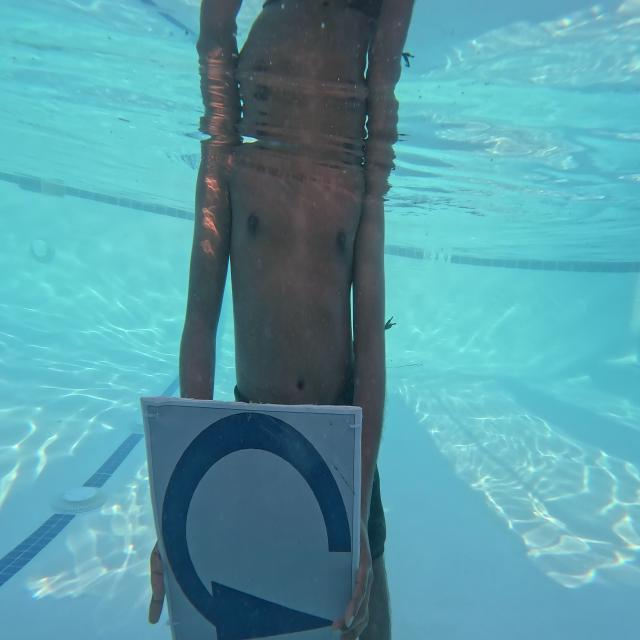blue_side: (141, 382, 362, 640)
